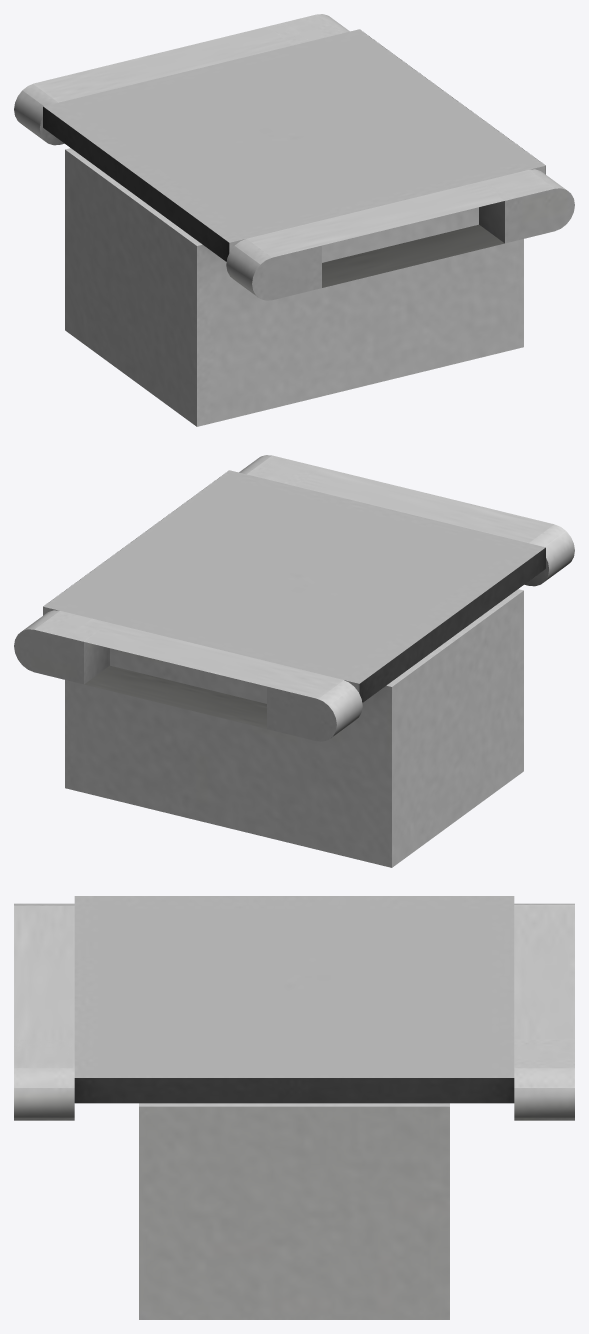
File: crossTransfer.glb
3 views of the same model, one above another, from view 1: azimuth 30°, elevation 25°; view 2: azimuth 150°, elevation 25°; view 3: azimuth 270°, elevation 25° (orthographic). The views are drawn at different scales.
Parts seen in each view (by area): view 1: crossTransfer; view 2: crossTransfer; view 3: crossTransfer.
Part boxes in pixels (left/top/right/bottom): crossTransfer: left=14, top=14, right=574, bottom=426; crossTransfer: left=14, top=455, right=574, bottom=867; crossTransfer: left=14, top=896, right=574, bottom=1319.
Size of the model in its own units: 32.9 by 19.5 by 41.5.
Materials: 1 (1 with a texture image).
